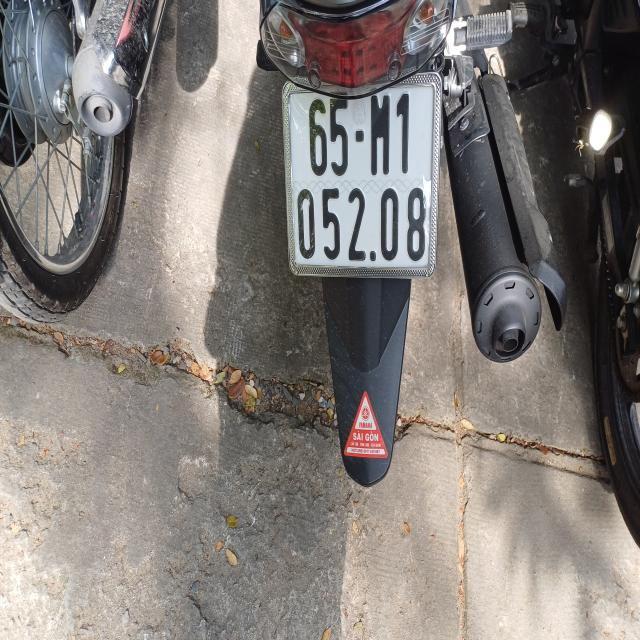0: (293, 181, 317, 263), (378, 181, 399, 262)
1: (395, 90, 412, 174)
2: (347, 183, 368, 261)
5: (319, 184, 344, 266), (328, 92, 349, 176)
6: (307, 94, 327, 175)
8: (407, 183, 428, 262)
M: (370, 90, 391, 176)
